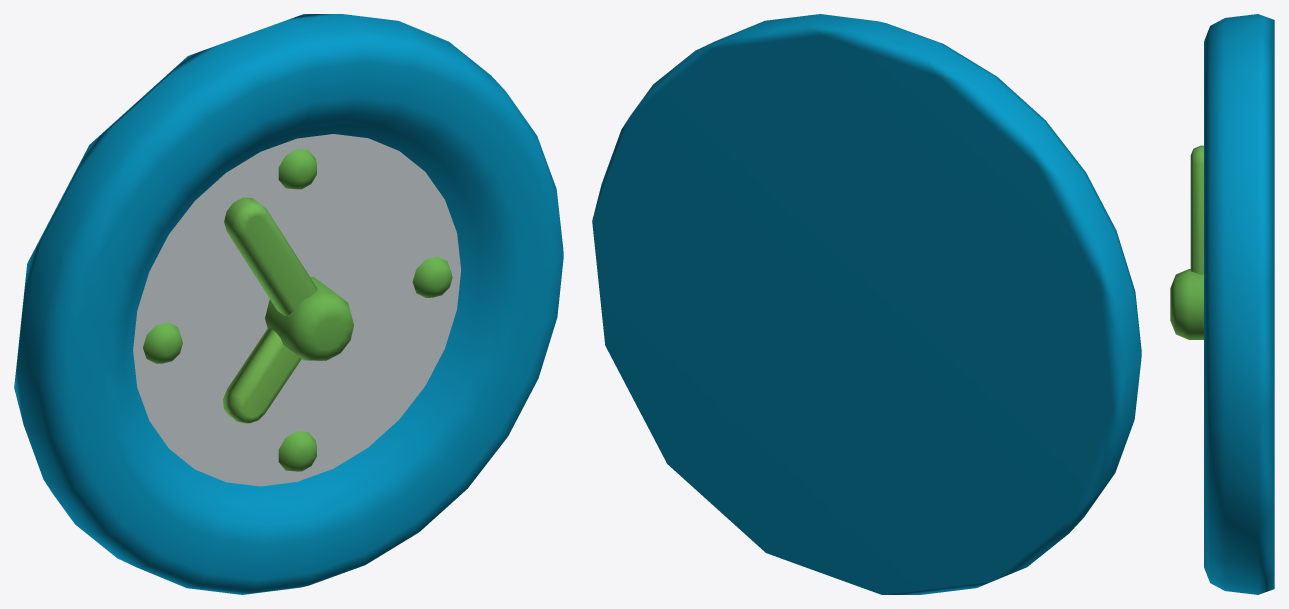
File: Clock_01.glb
3 renders of one model, left to right at view 1: azimuth 30°, elevation 25°; view 2: azimuth 150°, elevation 25°; view 3: azimuth 270°, elevation 25°, orthographic. The views are drawn at different scales.
Parts seen in each view (by area): view 1: Clock_01; view 2: Clock_01; view 3: Clock_01.
Boxes of the visible parts, <box> form: Clock_01: <box>14,14,563,594</box>; Clock_01: <box>592,14,1141,594</box>; Clock_01: <box>1170,14,1274,594</box>.
Size of the model in its own units: 0.5059 by 0.5059 by 0.0907.
Materials: 1 (1 with a texture image).
